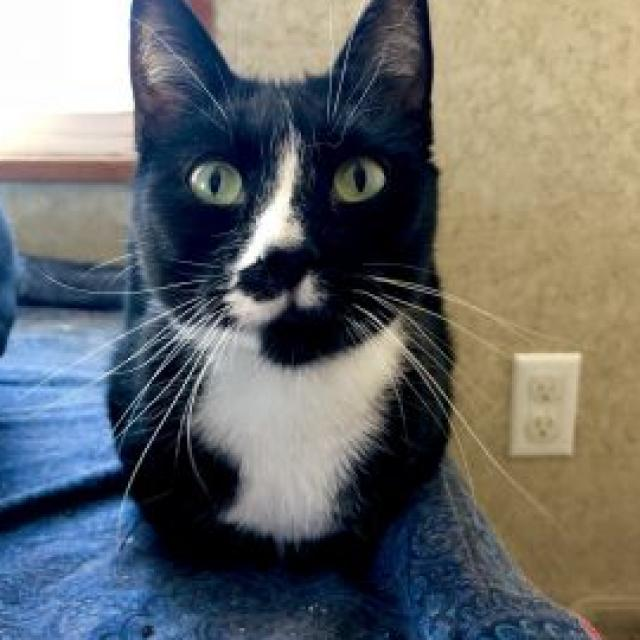Tuxedo: (102, 0, 460, 583)
